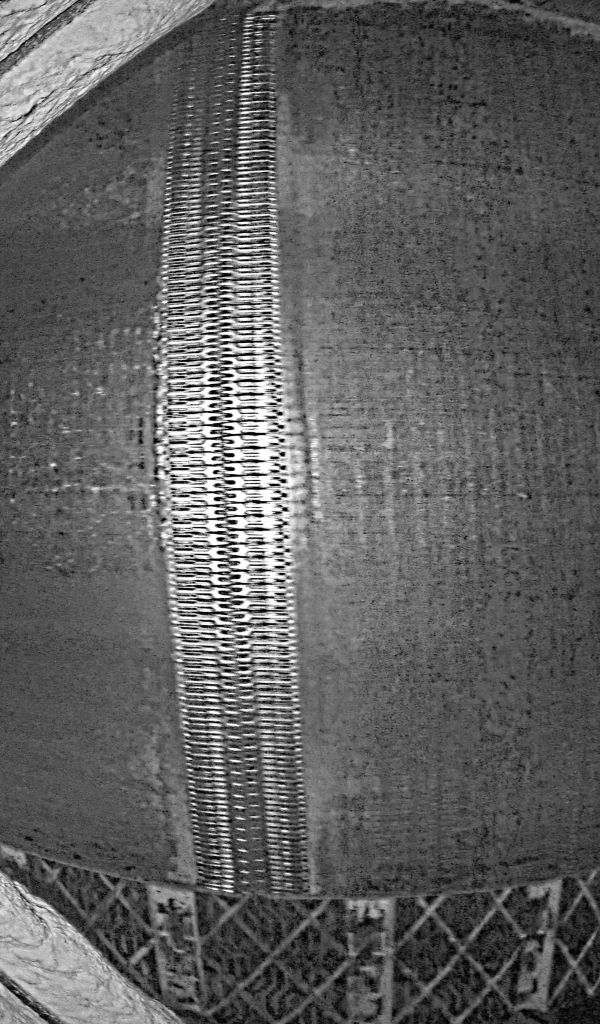splice: (126, 9, 326, 896)
